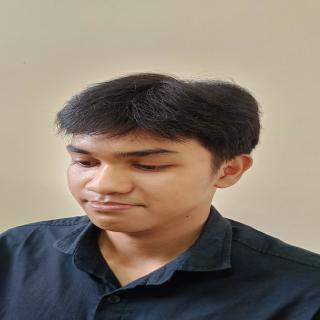Sedih: (58, 121, 219, 239)
